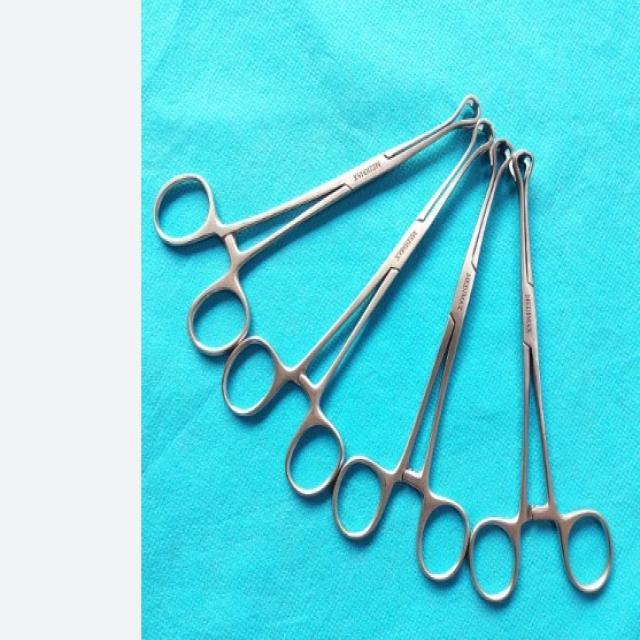Babcock Forceps: (224, 108, 496, 498), (148, 75, 484, 364), (336, 90, 518, 583), (472, 141, 627, 610)
